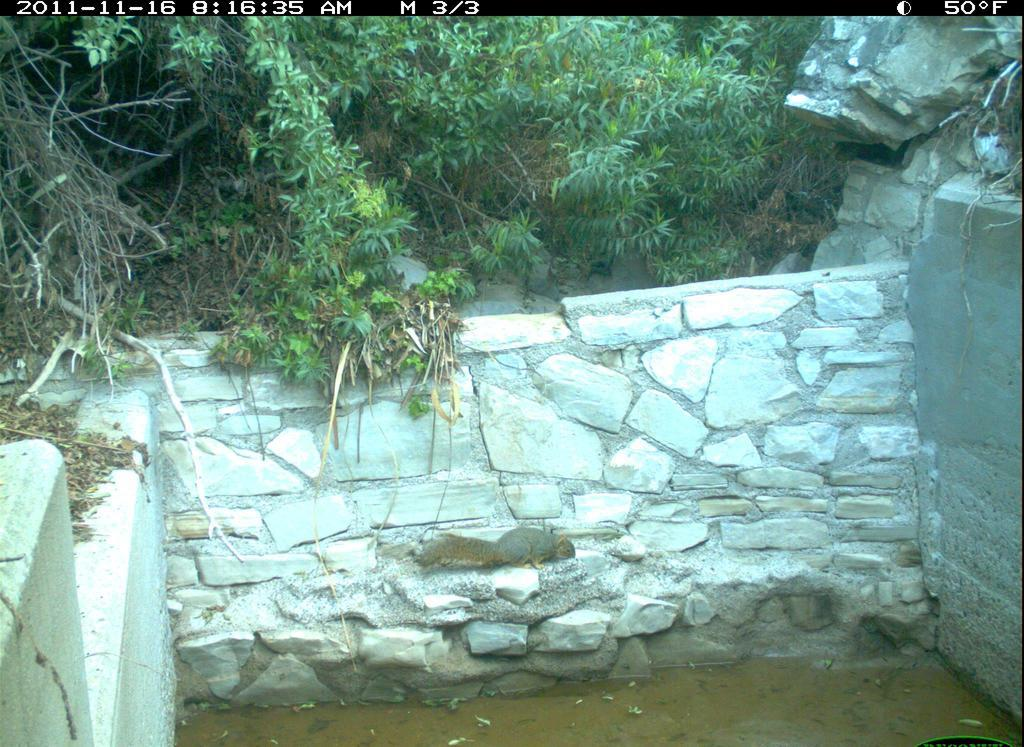squirrel: (404, 519, 594, 589)
